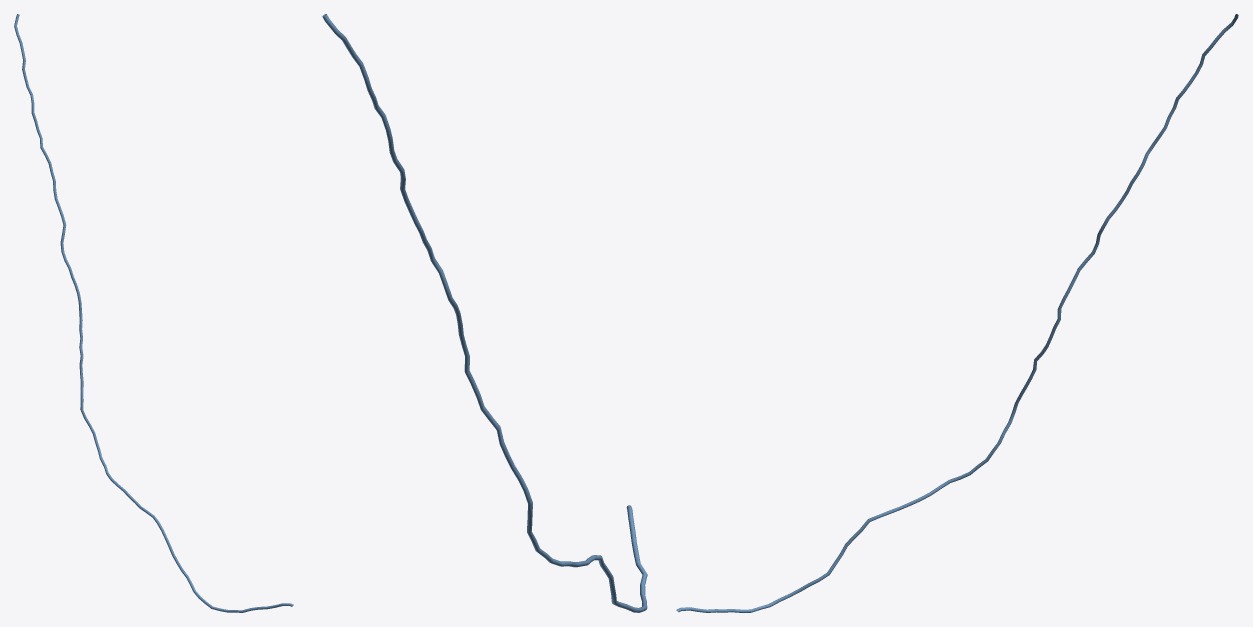
File: sweep222.fbx
3 renders of one model, left to right at view 1: azimuth 30°, elevation 25°; view 2: azimuth 150°, elevation 25°; view 3: azimuth 270°, elevation 25°, orthographic. The views are drawn at different scales.
Visible parts, largest first — view 1: sweep222; view 2: sweep222; view 3: sweep222.
Part boxes in pixels (box(x1,y1,x2,y2)): sweep222: box(14, 14, 293, 612); sweep222: box(322, 14, 647, 612); sweep222: box(676, 14, 1238, 612).
Size of the model in its own units: 0.653 by 3.57 by 3.1.
